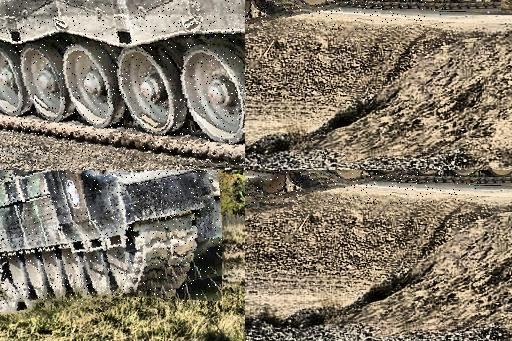tanks: (1, 1, 246, 165), (1, 171, 223, 305), (246, 171, 423, 205), (246, 1, 379, 27)
